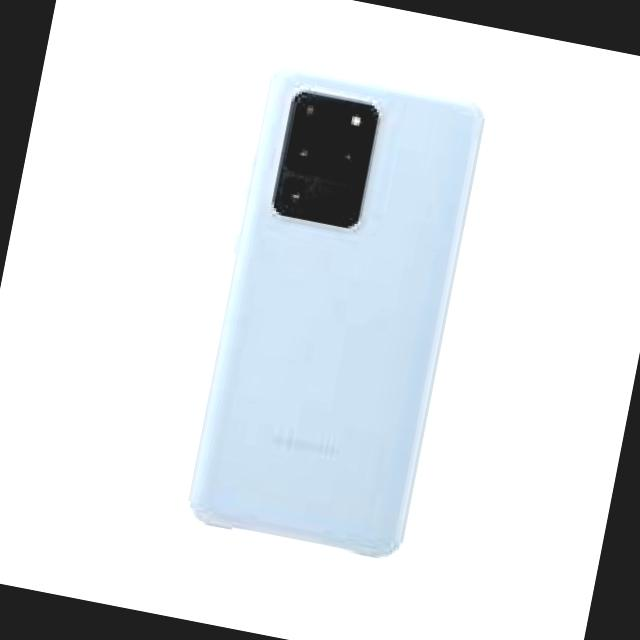lens_back: (266, 167, 316, 212), (330, 136, 366, 178), (288, 133, 326, 171), (294, 96, 328, 130)
phone: (174, 55, 497, 570)
